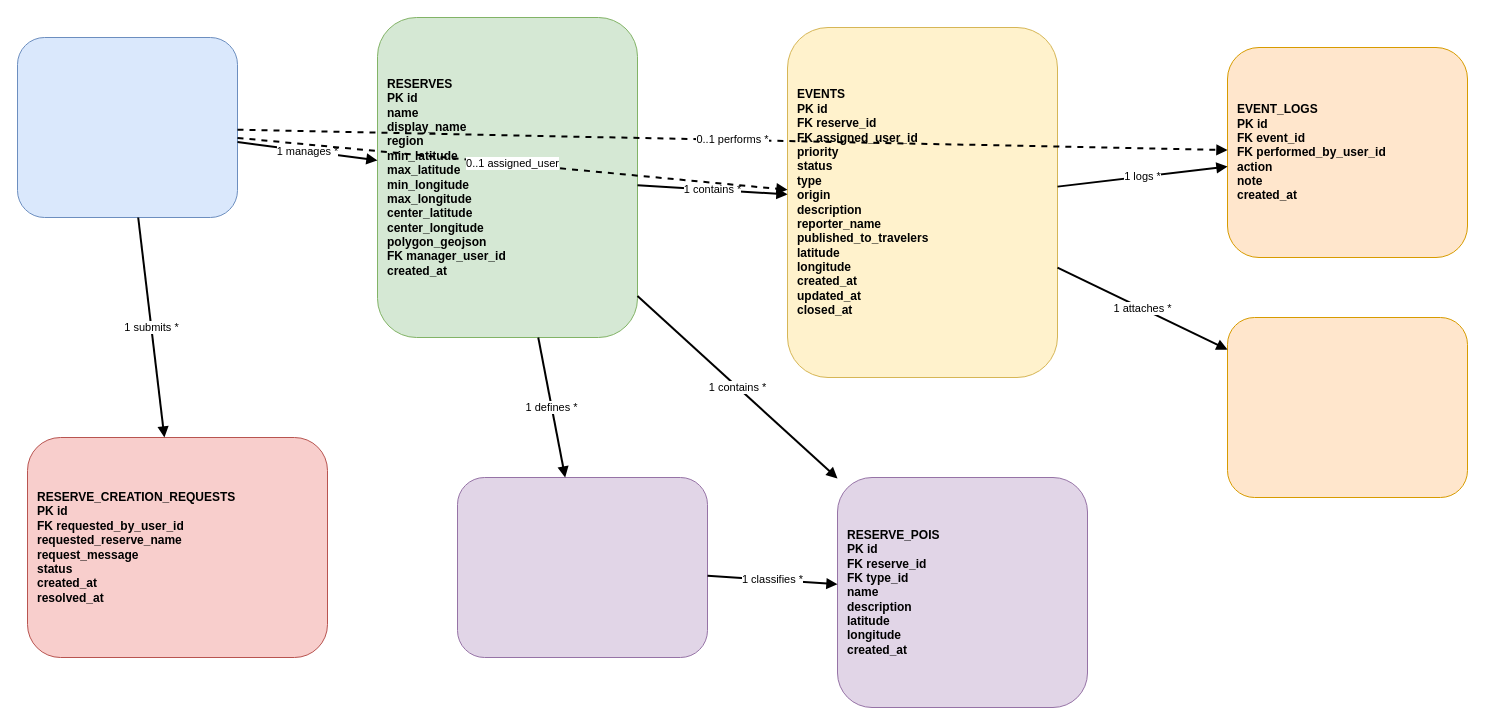
The diagram is 1485 pixels wide and 725 high, and some of its shapes have lost their labels. Here are the shapes that lost their labels. From the top down, the centre of each, then its label:
At pixel 127 127: "USERS PK id name email password_hash role".
At pixel 1347 407: "EVENT_MEDIA PK id FK event_id media_url media_type original_filename".
At pixel 582 567: "RESERVE_POI_TYPES PK id FK reserve_id name system_default created_at".
